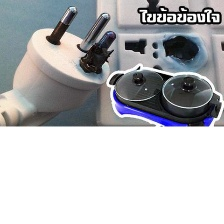three_eye_plug: (92, 0, 224, 129), (6, 3, 118, 121)
